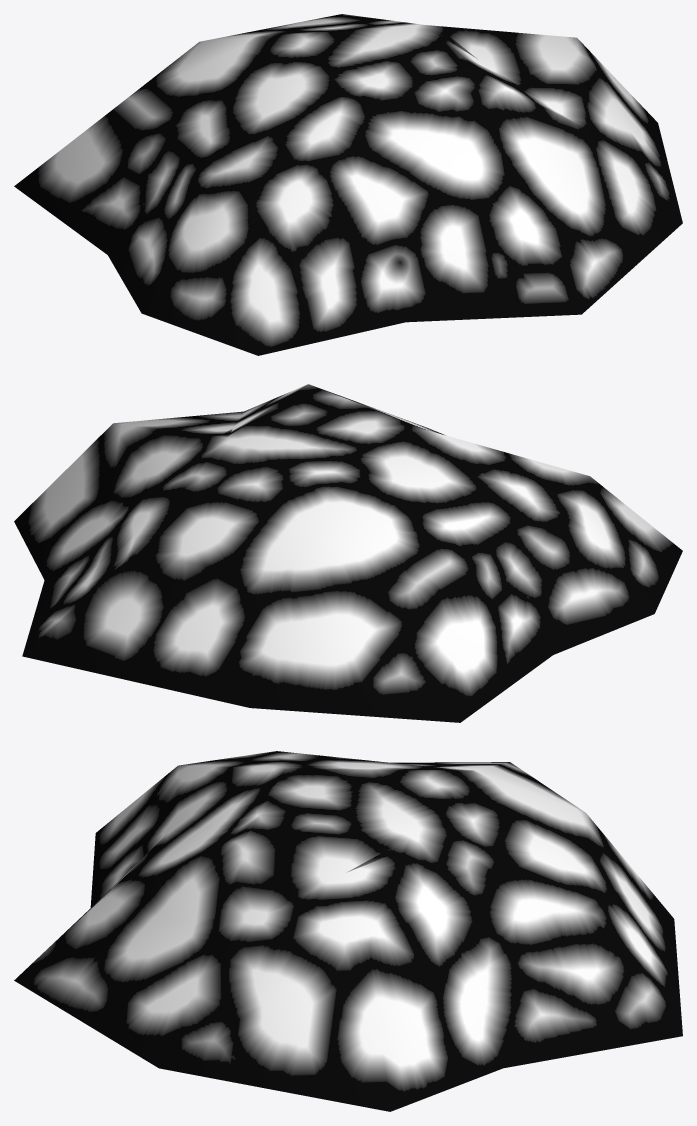
The model's file is RockFix.fbx.
3 views of the same model, one above another, from view 1: azimuth 30°, elevation 25°; view 2: azimuth 150°, elevation 25°; view 3: azimuth 270°, elevation 25° (orthographic). The views are drawn at different scales.
Visible parts, largest first — view 1: RockFix02; view 2: RockFix02; view 3: RockFix02.
Boxes of the visible parts, x1,y1,x2,y2 form: RockFix02: (14, 14, 682, 355); RockFix02: (14, 384, 682, 722); RockFix02: (14, 751, 682, 1111).
Bounding box in the file's own units: 3 × 0.727 × 2.81.
